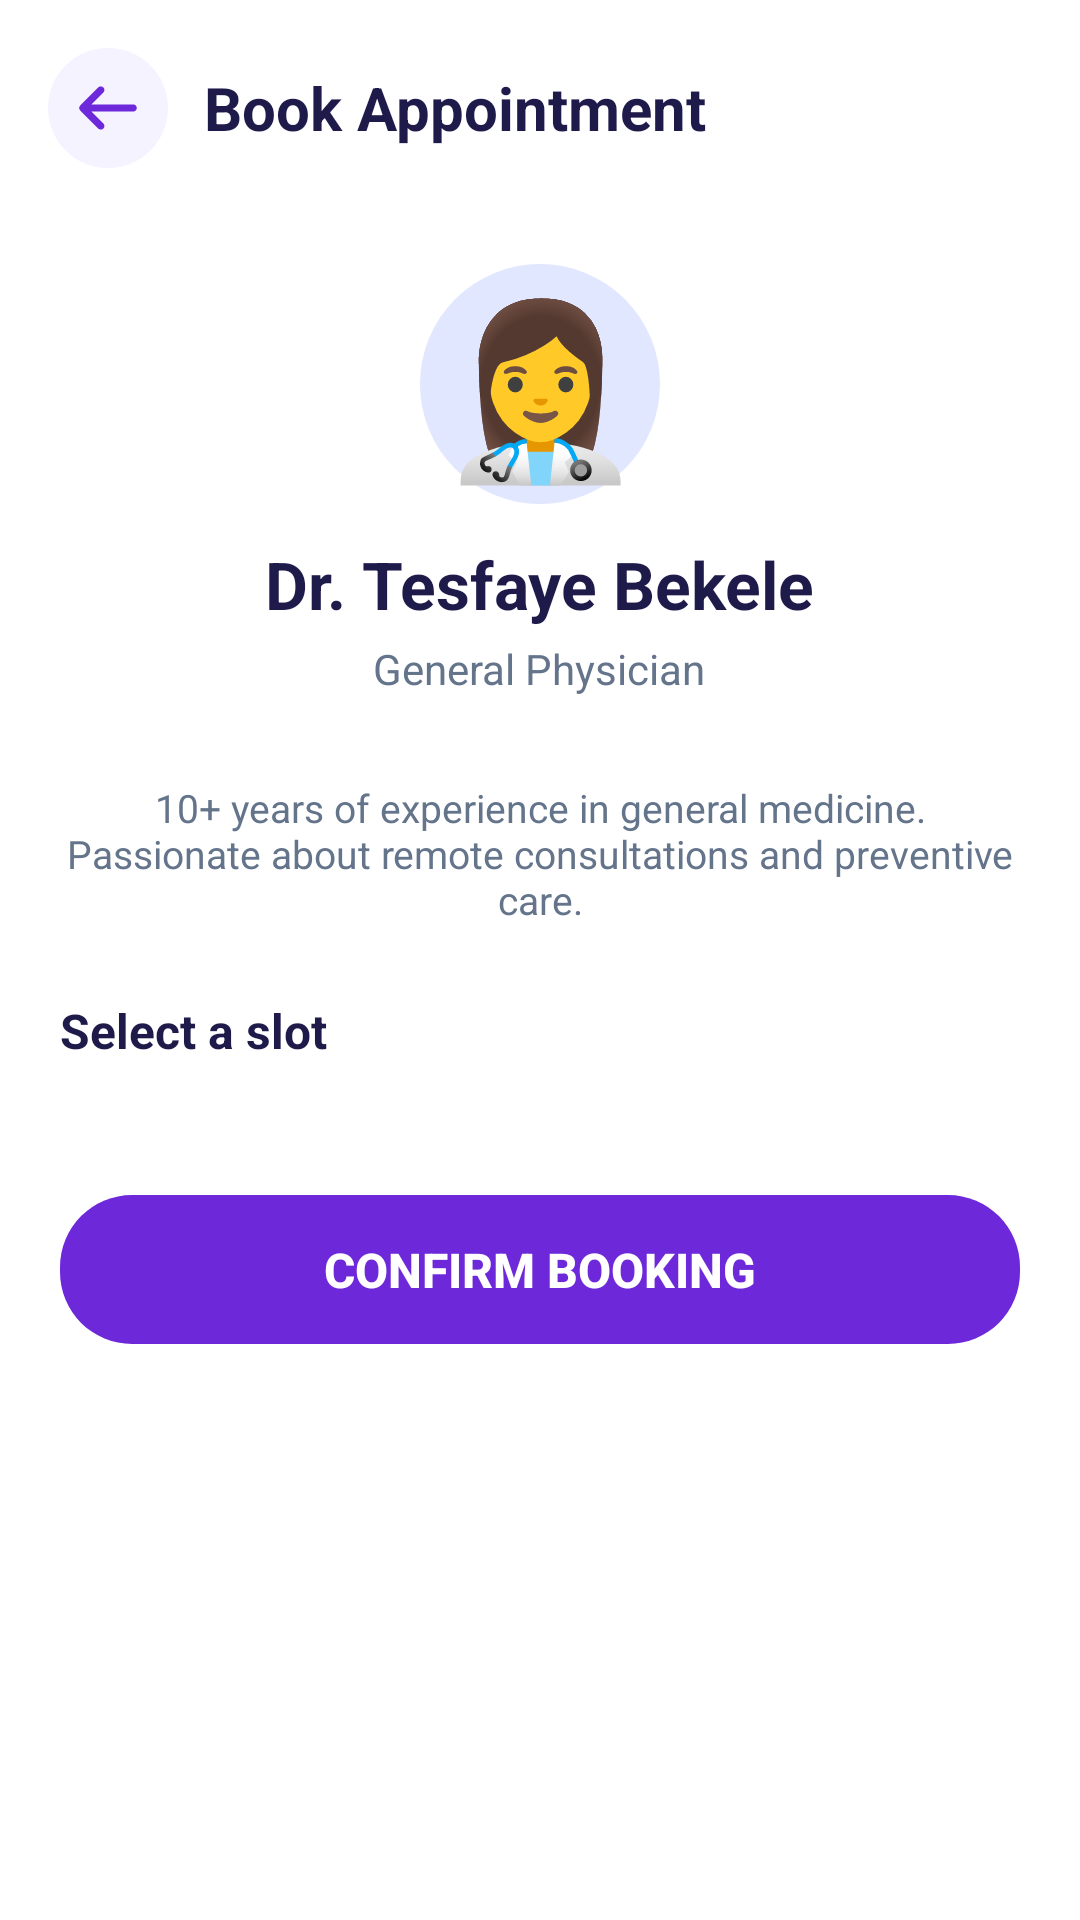

Where icons sit on this 1080px×1920px app screen, as (x1, y1, x2, y2):
Cancel: (79, 86, 137, 130)
